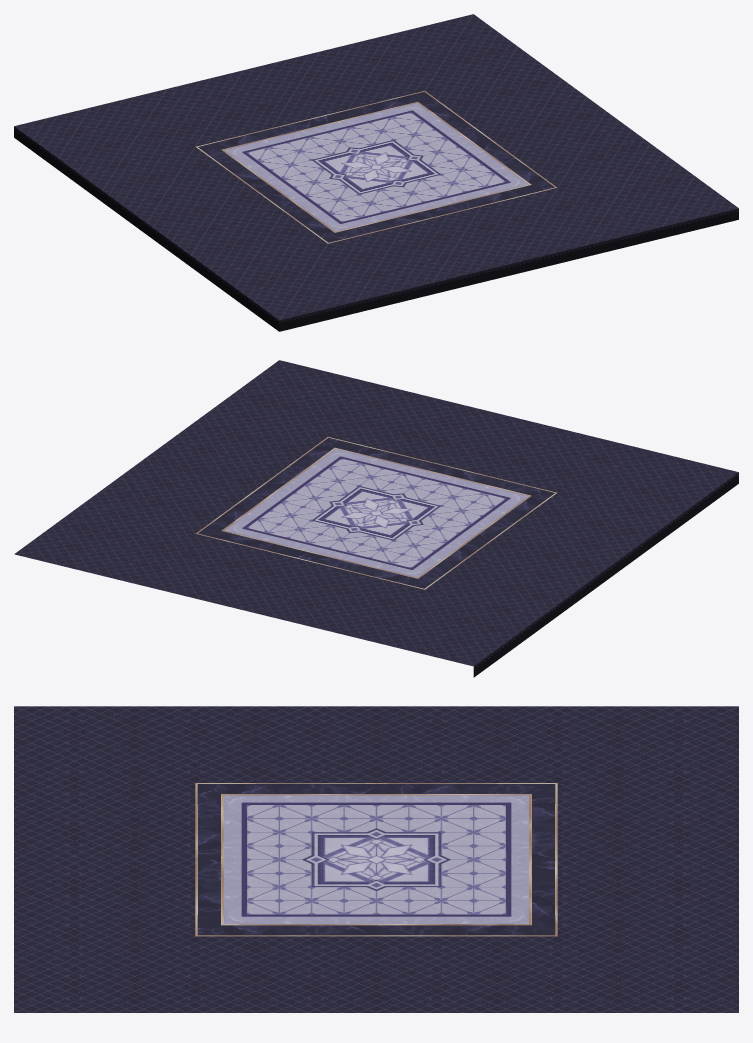
The model's file is my_gehennaparty_01_tile_20x20.glb.
The picture shows the model from 3 angles, top to bottom: view 1: azimuth 30°, elevation 25°; view 2: azimuth 150°, elevation 25°; view 3: azimuth 270°, elevation 25°; orthographic projection. The views are drawn at different scales.
Visible parts, largest first — view 1: my_gehennaparty_01_tile_20x20; view 2: my_gehennaparty_01_tile_20x20; view 3: my_gehennaparty_01_tile_20x20.
Boxes of the visible parts, left/top/right/bottom form: my_gehennaparty_01_tile_20x20: left=14, top=14, right=738, bottom=331; my_gehennaparty_01_tile_20x20: left=14, top=360, right=738, bottom=677; my_gehennaparty_01_tile_20x20: left=14, top=706, right=738, bottom=1012.
Size of the model in its own units: 0.12 by 0.00285 by 0.12.
1 material, 1 textured.
